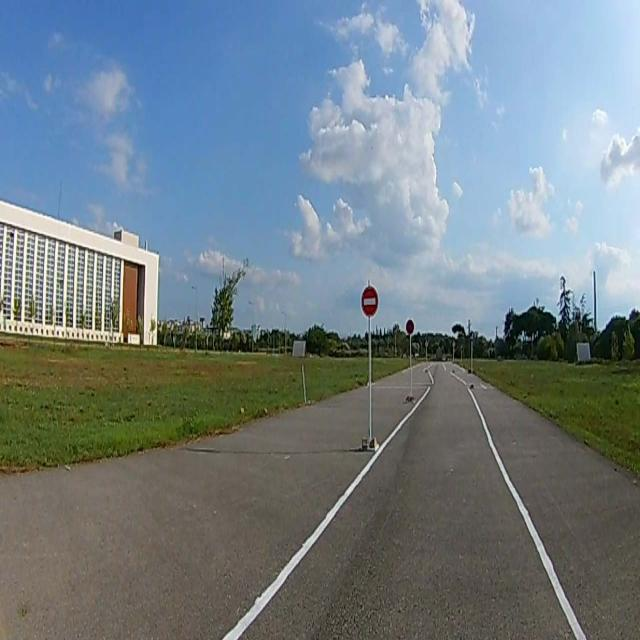girisyok: (361, 286, 380, 318)
